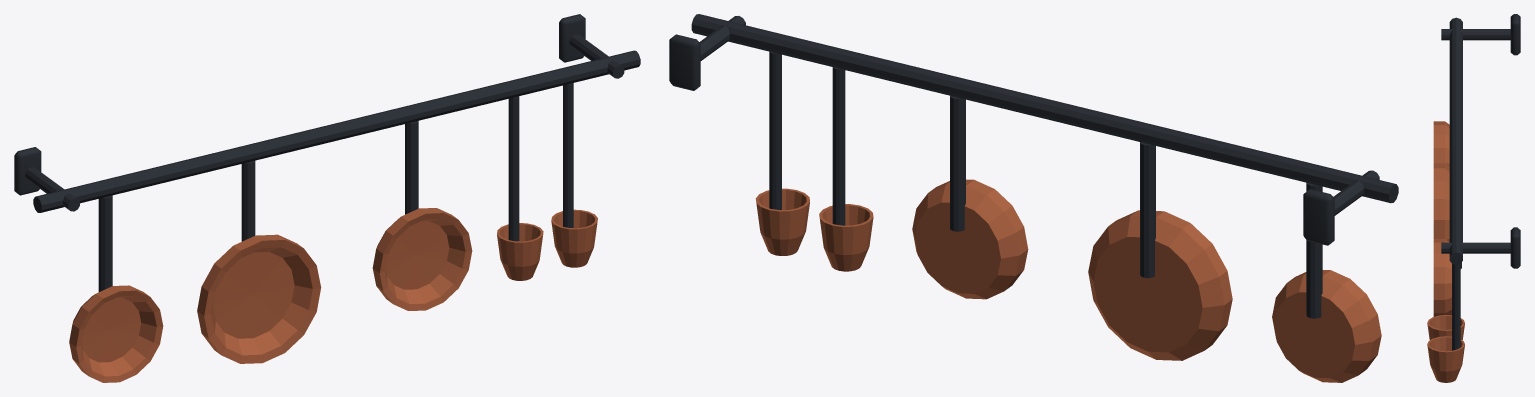
Rendered from feast_cookware.glb.
3 views of the same model, side by side, from view 1: azimuth 30°, elevation 25°; view 2: azimuth 150°, elevation 25°; view 3: azimuth 270°, elevation 25° (orthographic). The views are drawn at different scales.
Parts seen in each view (by area): view 1: feast_cookware; view 2: feast_cookware; view 3: feast_cookware.
Part boxes in pixels (x1,y1,x2,y2): feast_cookware: (14,14,640,382); feast_cookware: (669,14,1398,382); feast_cookware: (1427,14,1520,382).
Bounding box in the file's own units: 4.4 × 1.55 × 0.74.
